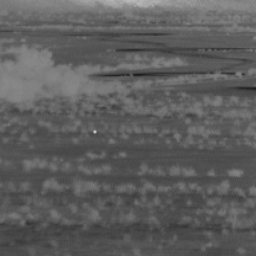Target: (91, 128, 99, 135)
